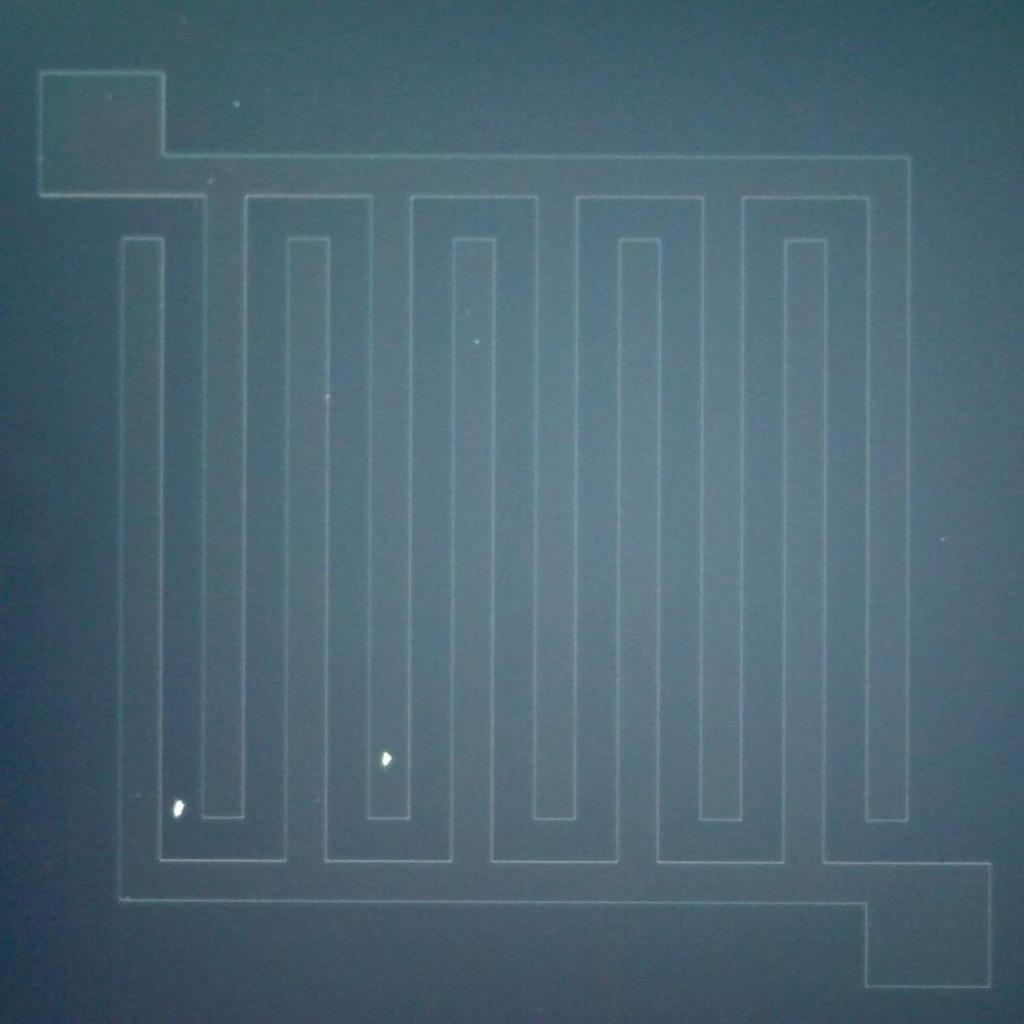spot: (161, 790, 192, 825), (372, 746, 399, 774)
